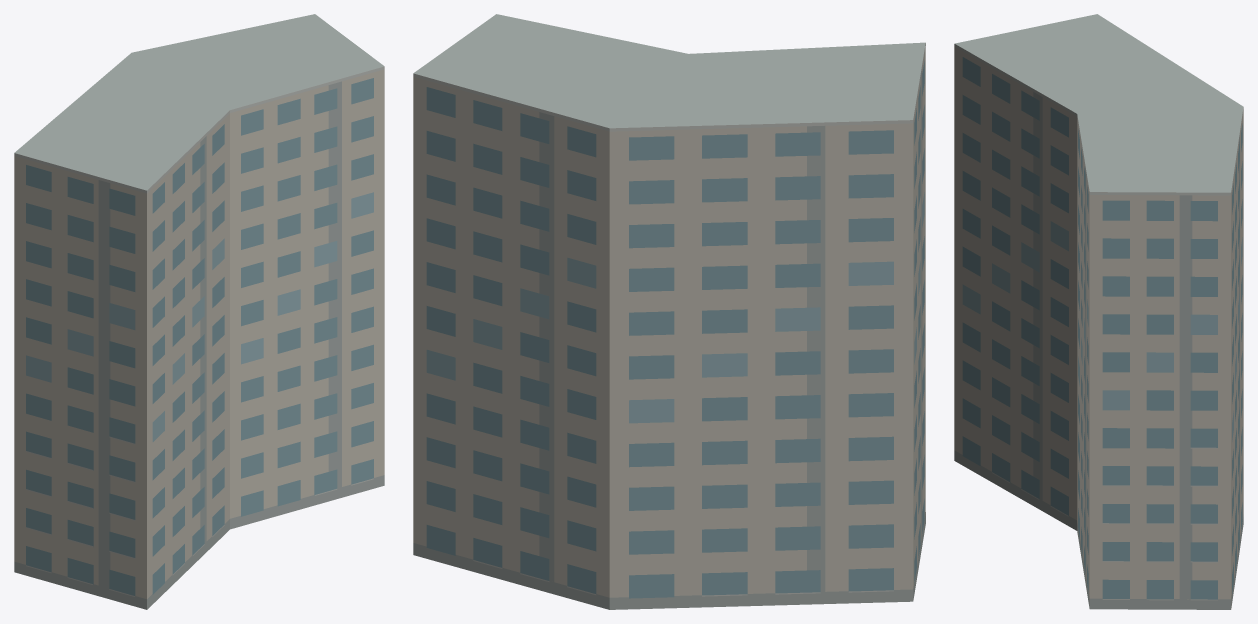
The model's file is residential-c95c24a3-3fea-46ac-a4c8-93183f4b6e00.glb.
3 views of the same model, side by side, from view 1: azimuth 30°, elevation 25°; view 2: azimuth 150°, elevation 25°; view 3: azimuth 270°, elevation 25° (orthographic). The views are drawn at different scales.
Parts seen in each view (by area): view 1: residential-c95c24a3-3fea-46ac-a4c8-93183f4b6e00.tmp; view 2: residential-c95c24a3-3fea-46ac-a4c8-93183f4b6e00.tmp; view 3: residential-c95c24a3-3fea-46ac-a4c8-93183f4b6e00.tmp.
Part boxes in pixels (box(x1,y1,x2,y2)): residential-c95c24a3-3fea-46ac-a4c8-93183f4b6e00.tmp: box(14, 14, 384, 609); residential-c95c24a3-3fea-46ac-a4c8-93183f4b6e00.tmp: box(413, 14, 925, 609); residential-c95c24a3-3fea-46ac-a4c8-93183f4b6e00.tmp: box(954, 14, 1243, 609).
Bounding box in the file's own units: 32.17 × 35 × 22.
